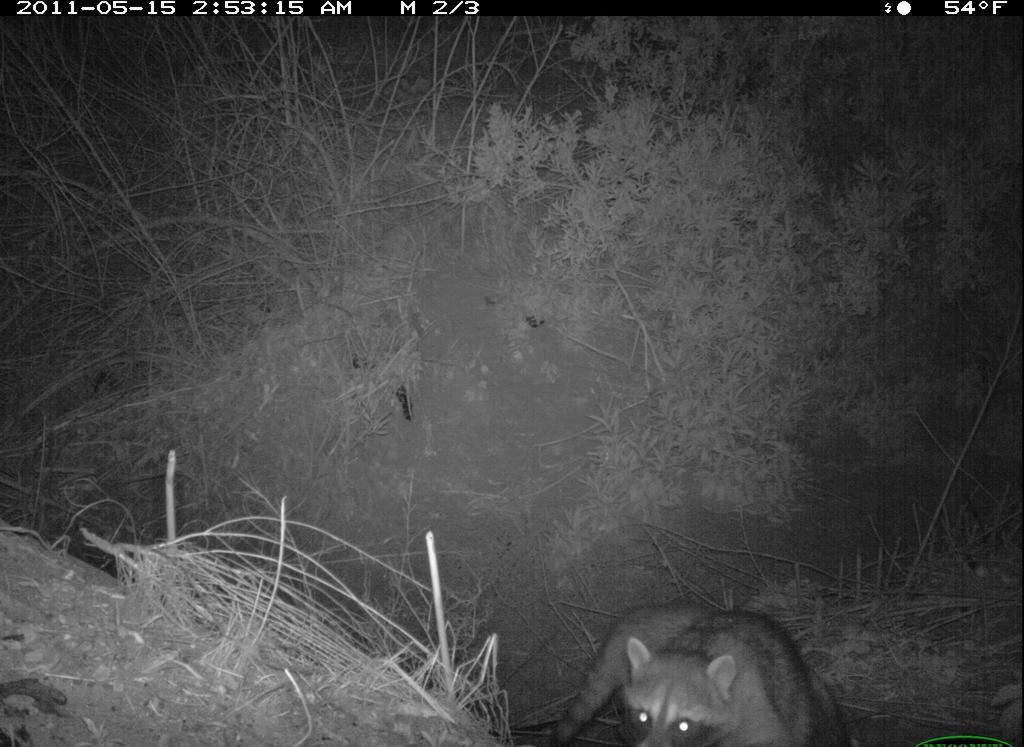raccoon: (536, 591, 871, 747)
